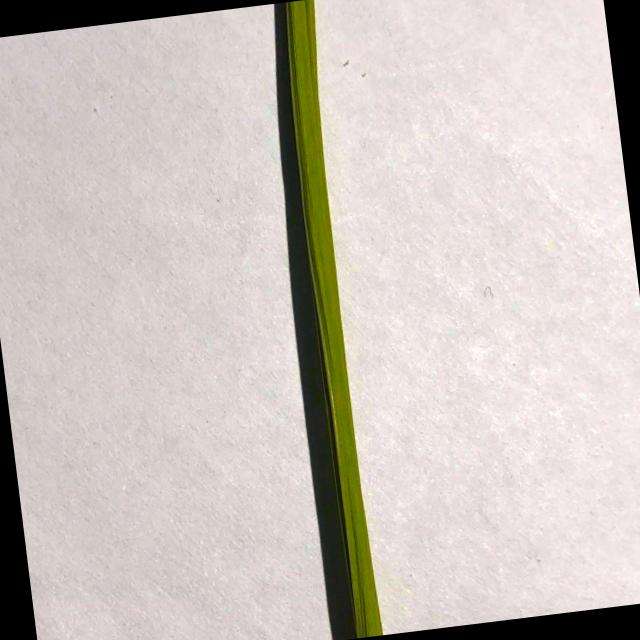Rice_Healthy: (286, 0, 382, 637)
